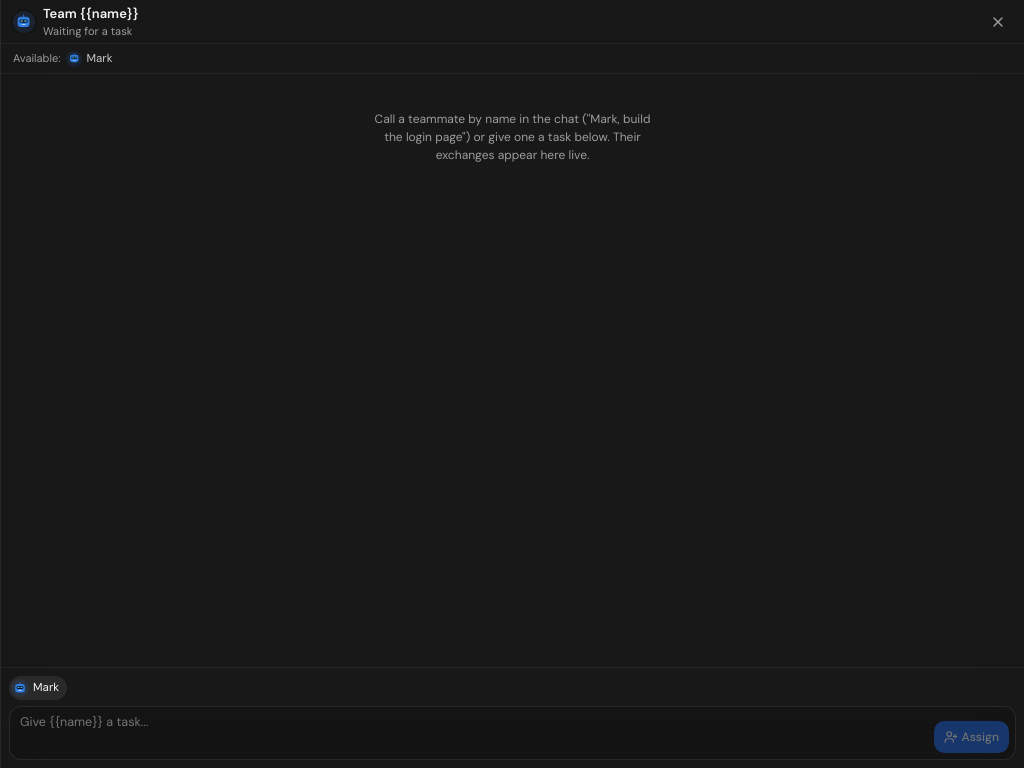
Test case: TeamRoom › shows a failed request instead of swallowing it
The image size is (1024, 768).
Type "Do it" into the text box at (472,733), box [16, 713, 928, 753]
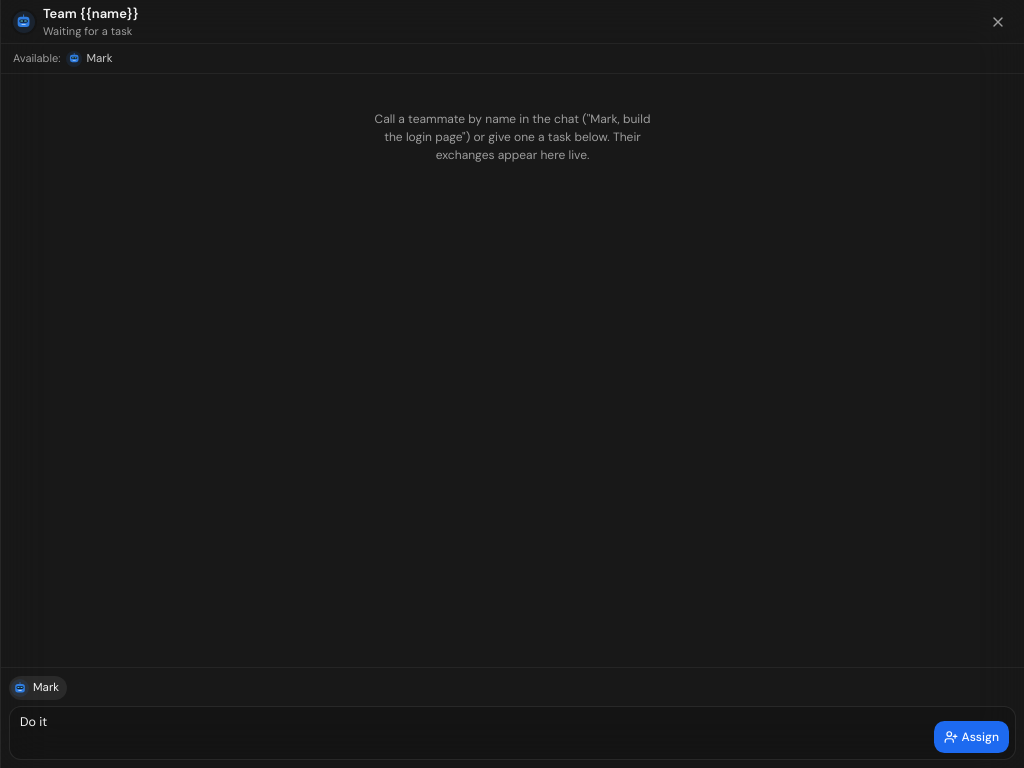
Click the button "Assign" at (971,737), box [934, 721, 1009, 753]
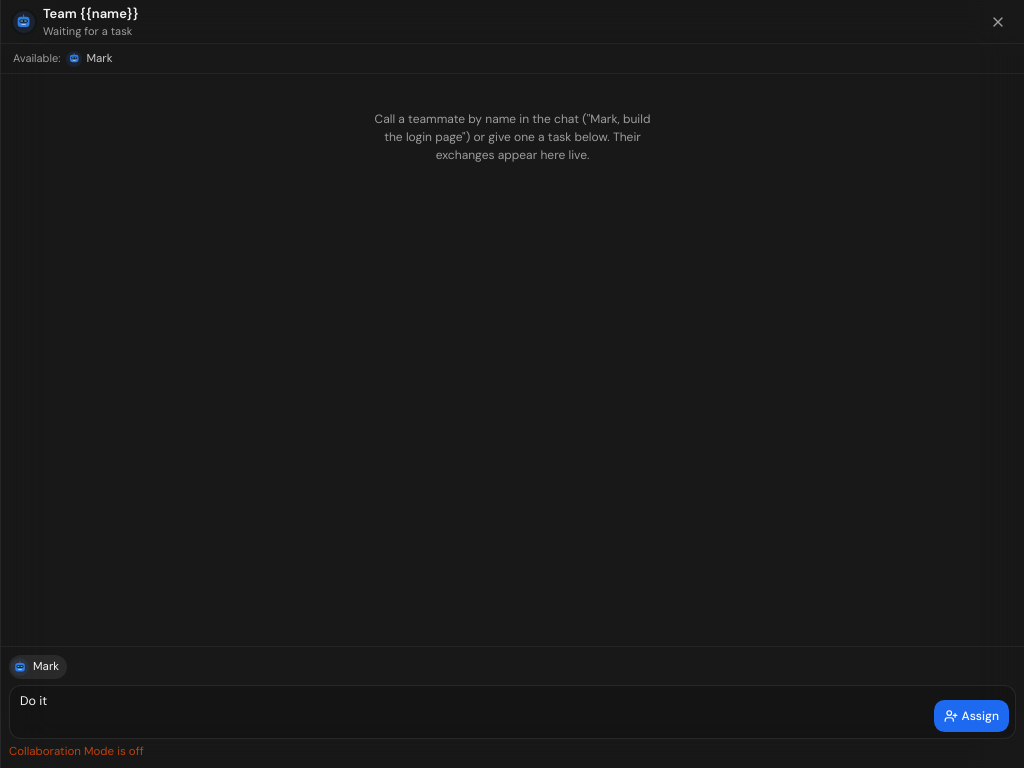
Check: the message reads "Collaboration Mode is off", box [9, 744, 144, 759]
